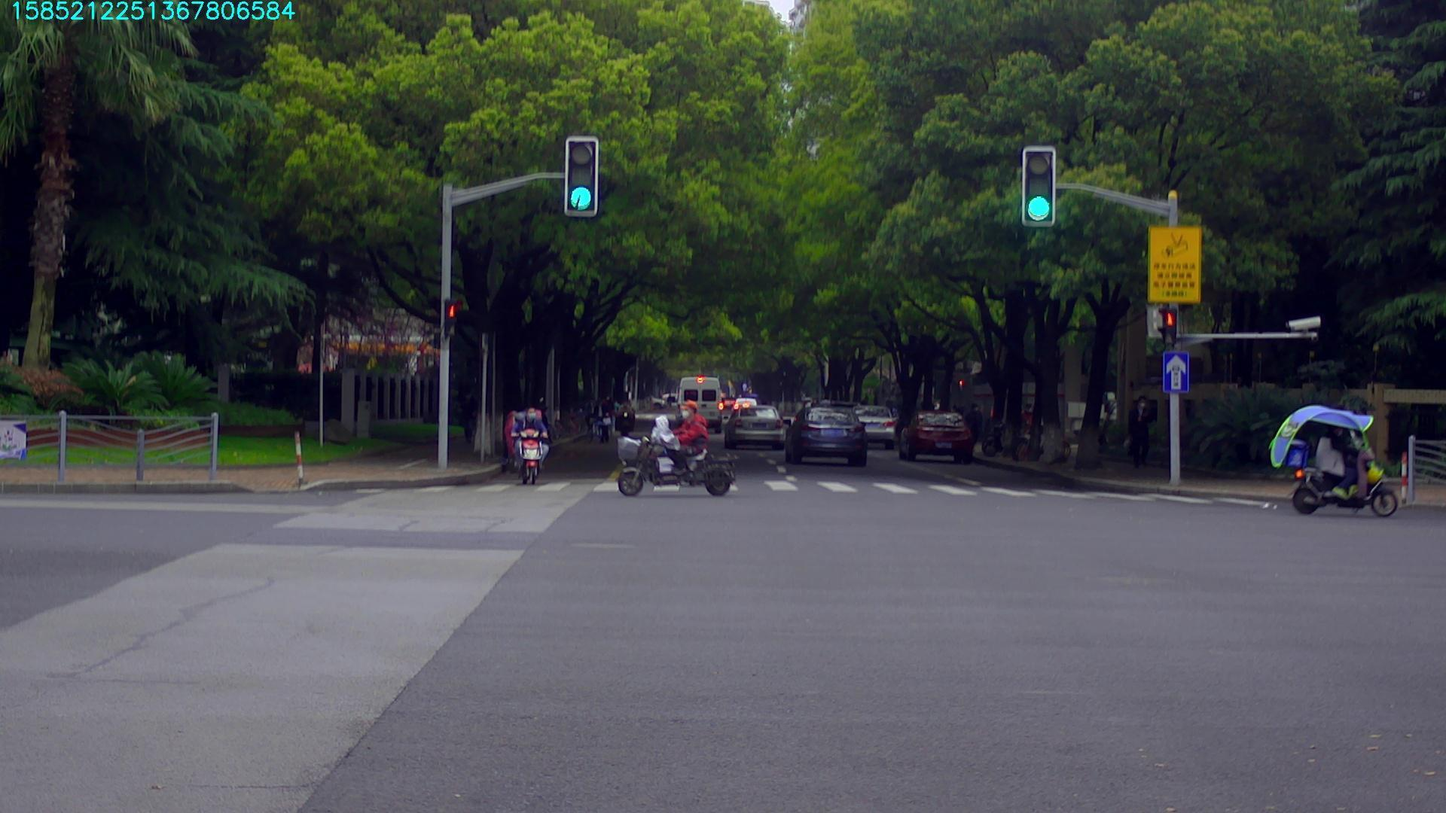green: (566, 138, 596, 213), (1025, 148, 1053, 224)
